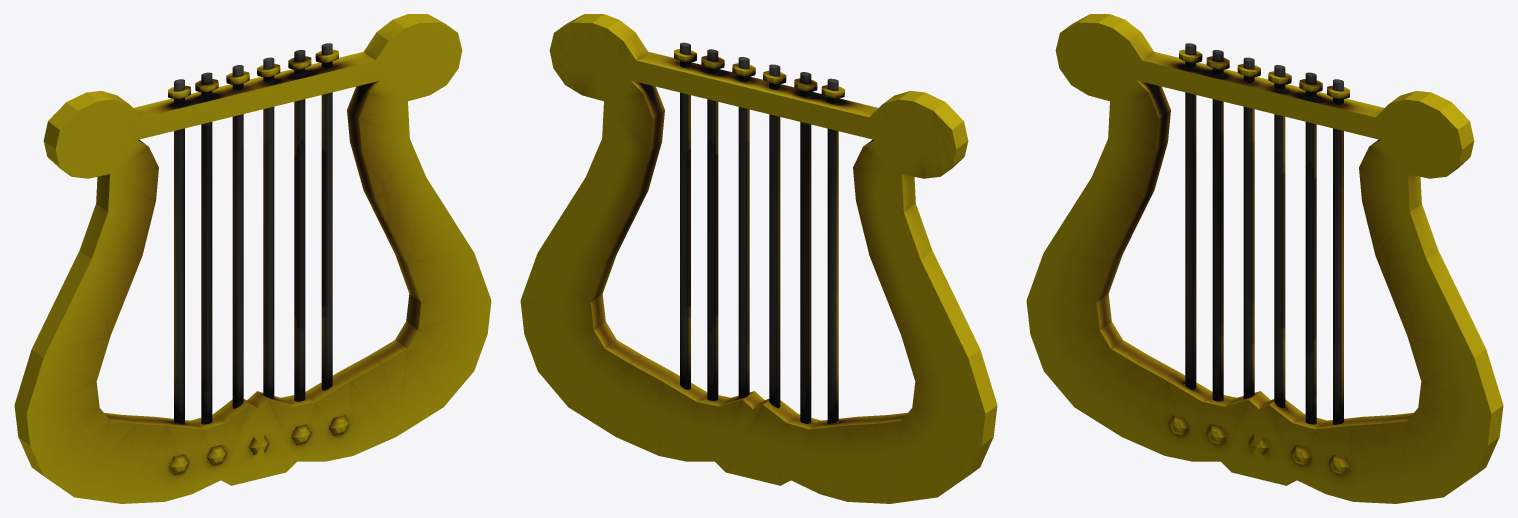
Rendered from harp.fbx.
The picture shows the model from 3 angles, left to right: view 1: azimuth 30°, elevation 25°; view 2: azimuth 150°, elevation 25°; view 3: azimuth 330°, elevation 25°; orthographic projection.
Visible parts, largest first — view 1: polySurface7; view 2: polySurface7; view 3: polySurface7.
Boxes of the visible parts, x1=… form: polySurface7: x1=14, y1=14, x2=491, y2=503; polySurface7: x1=520, y1=14, x2=997, y2=503; polySurface7: x1=1026, y1=14, x2=1503, y2=503.
Size of the model in its own units: 35 by 29.99 by 1.91.
